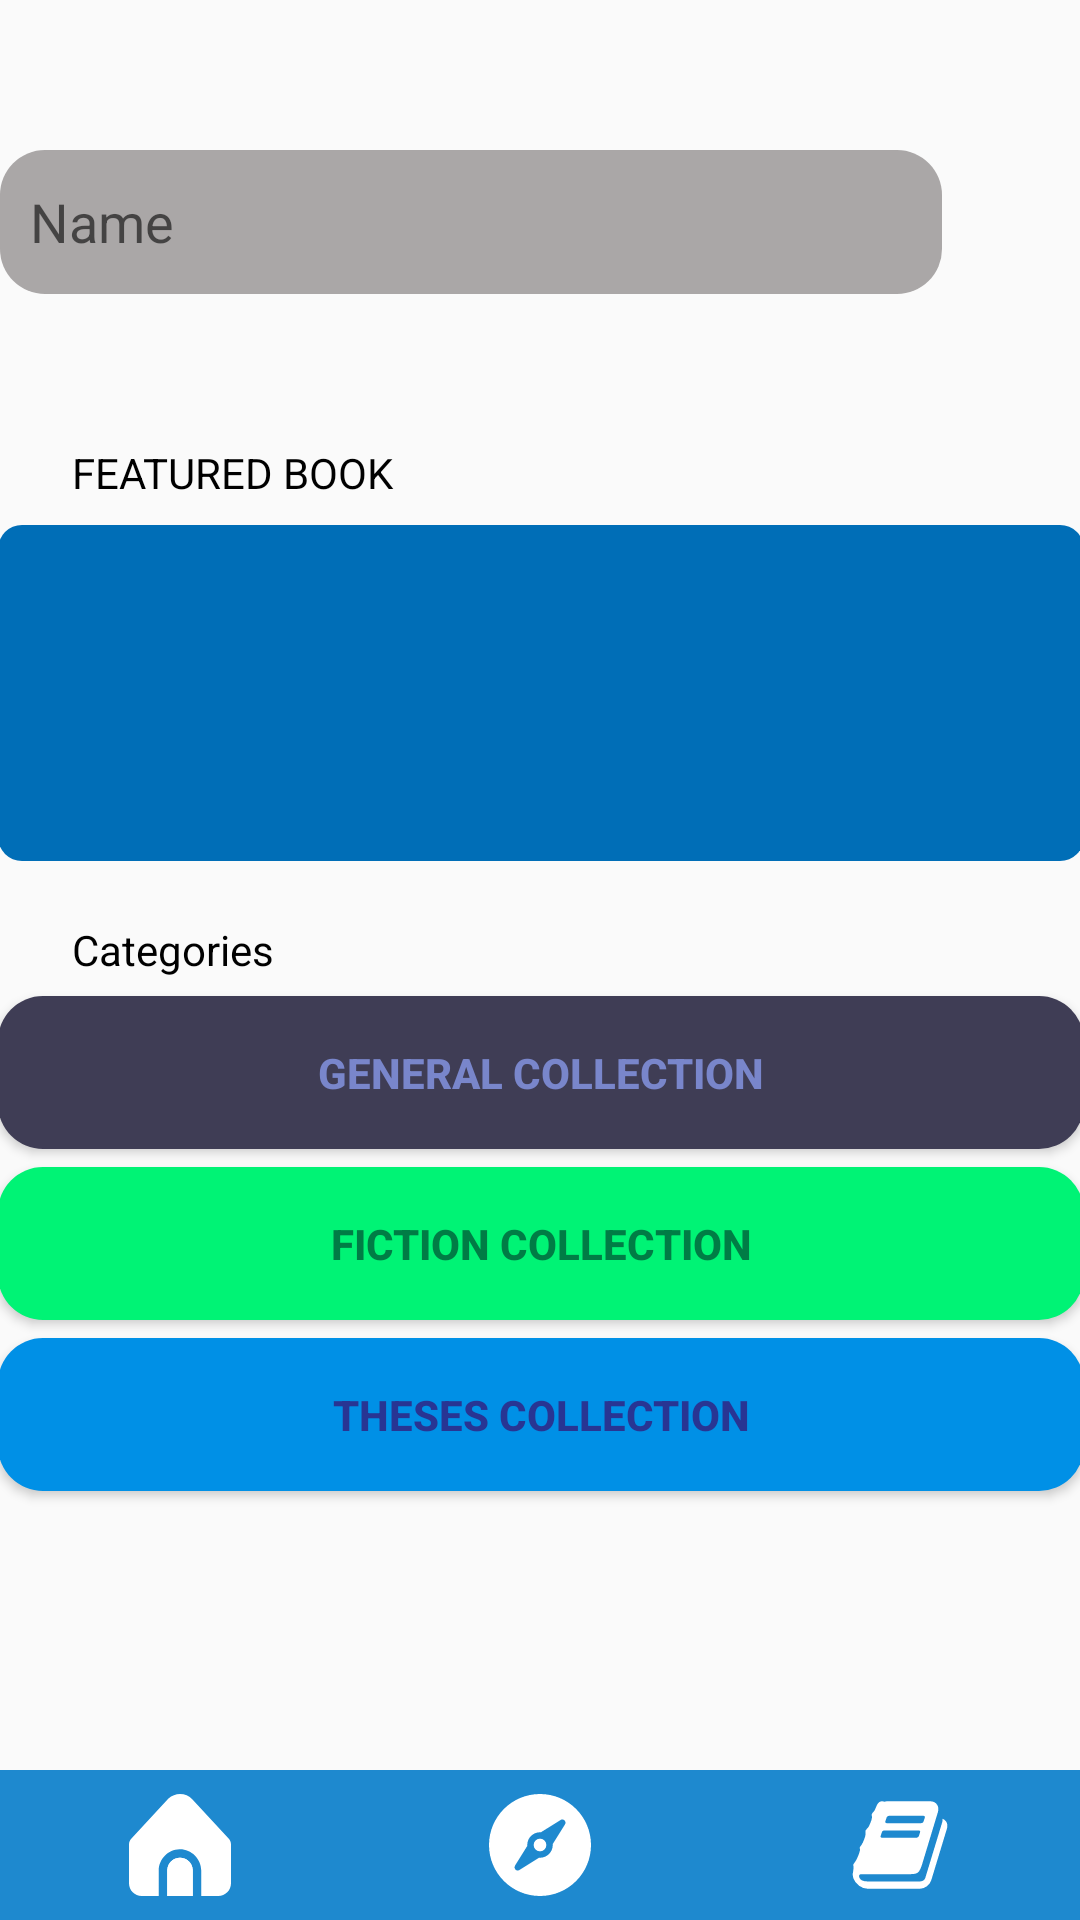

Point at icon controls on the screen. Image size 1080x1920, points as point (x, y).
book: point (900, 1845)
compass: point (540, 1845)
home: point (180, 1845)
